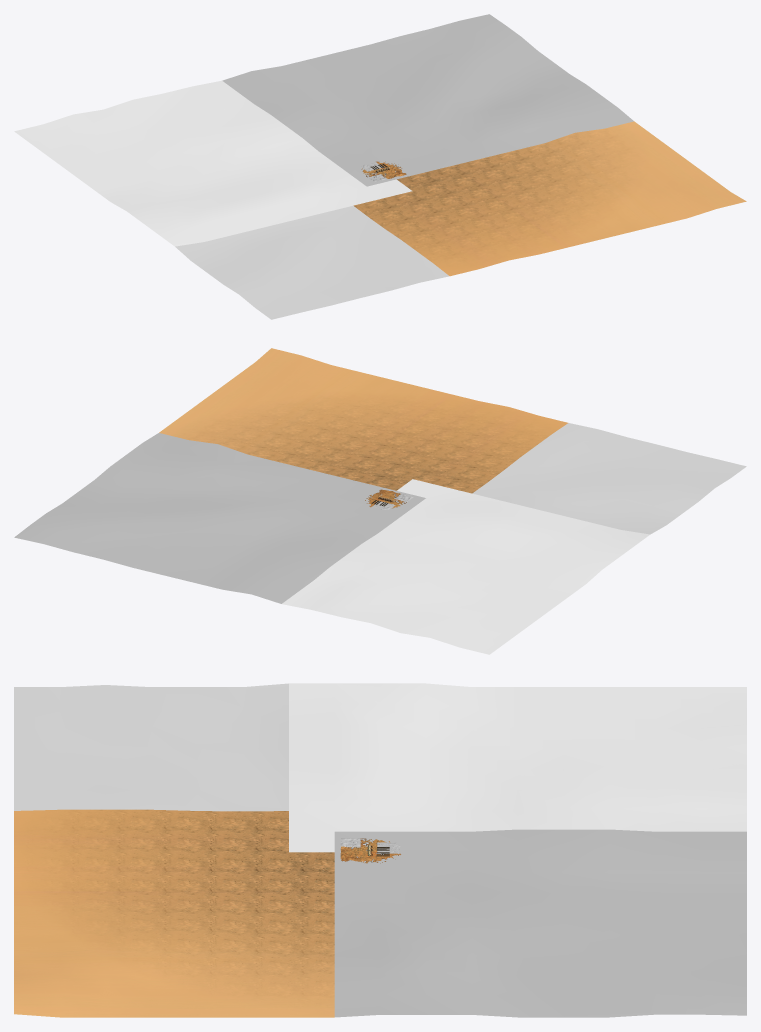
File: Mars_One_Mission_Base_dec.fbx
3 views of the same model, one above another, from view 1: azimuth 30°, elevation 25°; view 2: azimuth 150°, elevation 25°; view 3: azimuth 270°, elevation 25° (orthographic). The views are drawn at different scales.
Parts seen in each view (by area): view 1: GLTFNode_4, GLTFNode_5, GLTFNode_6, GLTFNode_3; view 2: GLTFNode_4, GLTFNode_5, GLTFNode_6, GLTFNode_3; view 3: GLTFNode_4, GLTFNode_5, GLTFNode_6, GLTFNode_3.
Boxes of the visible parts, x1,y1,x2,y2 form: GLTFNode_4: [222, 14, 633, 186]; GLTFNode_5: [14, 80, 412, 246]; GLTFNode_6: [353, 121, 746, 276]; GLTFNode_3: [175, 206, 449, 319]; GLTFNode_4: [14, 433, 425, 603]; GLTFNode_5: [282, 479, 649, 654]; GLTFNode_6: [159, 348, 567, 493]; GLTFNode_3: [472, 423, 746, 534]; GLTFNode_4: [334, 829, 746, 1017]; GLTFNode_5: [289, 683, 746, 852]; GLTFNode_6: [14, 809, 334, 1017]; GLTFNode_3: [14, 683, 288, 811].
Size of the model in its own units: 133137 by 7435 by 124840.
